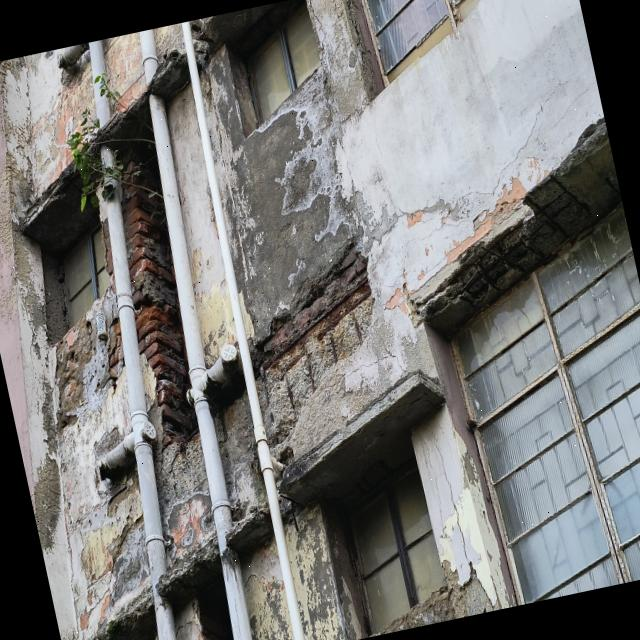peeling: (229, 67, 356, 346)
spalling: (407, 117, 622, 333), (127, 207, 213, 543), (252, 260, 370, 469), (211, 372, 266, 518)
